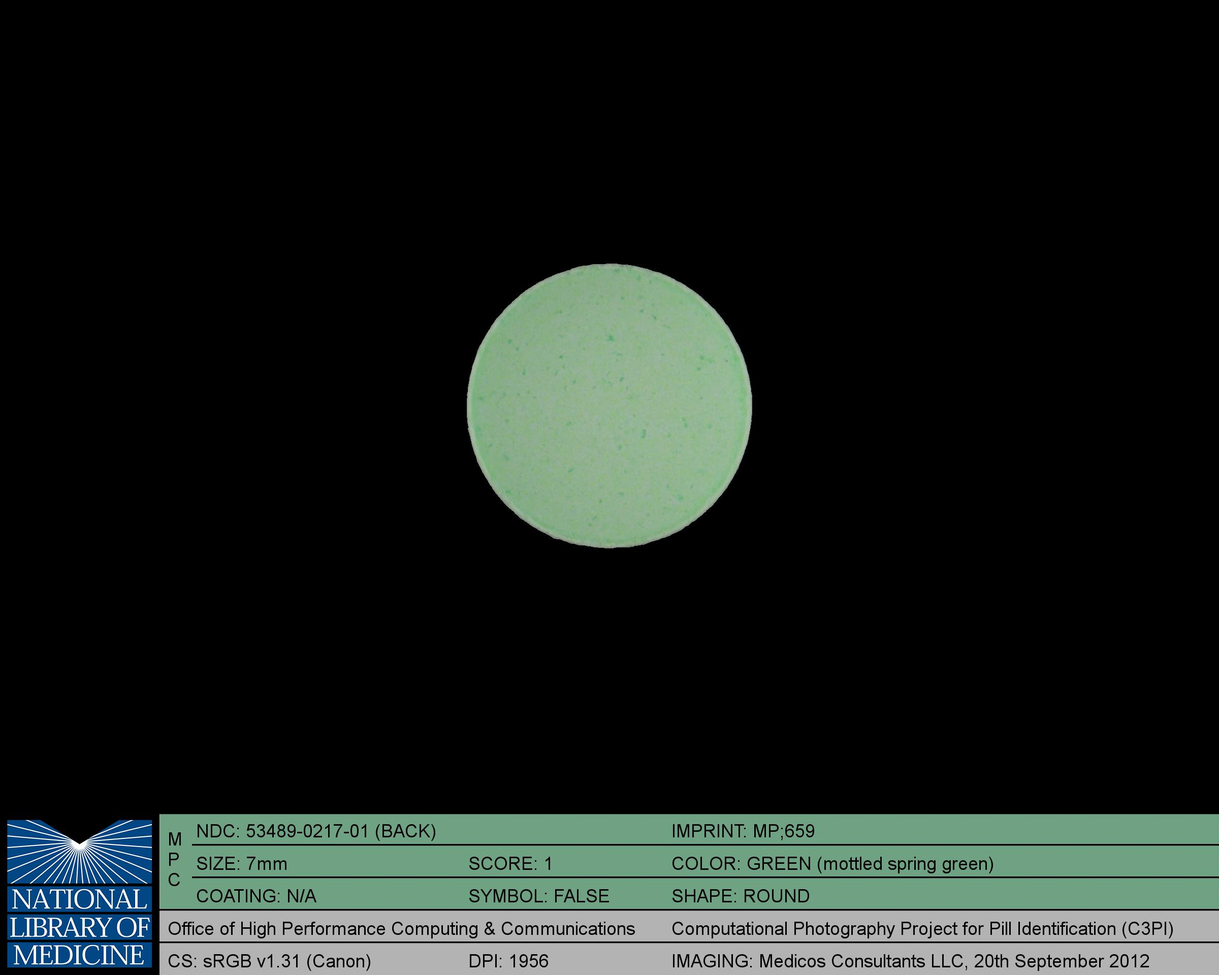Pill: (449, 245, 770, 562)
